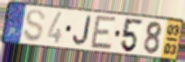4: (46, 11, 63, 46)
5: (119, 17, 146, 53)
8: (142, 20, 163, 55)
E: (89, 14, 118, 51)
J: (71, 15, 93, 47)
S: (22, 8, 46, 43)
